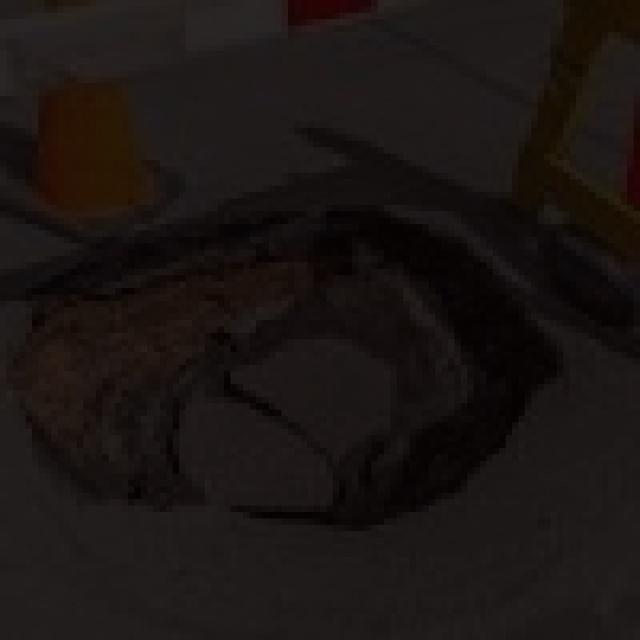Pothole: (14, 191, 565, 527)
